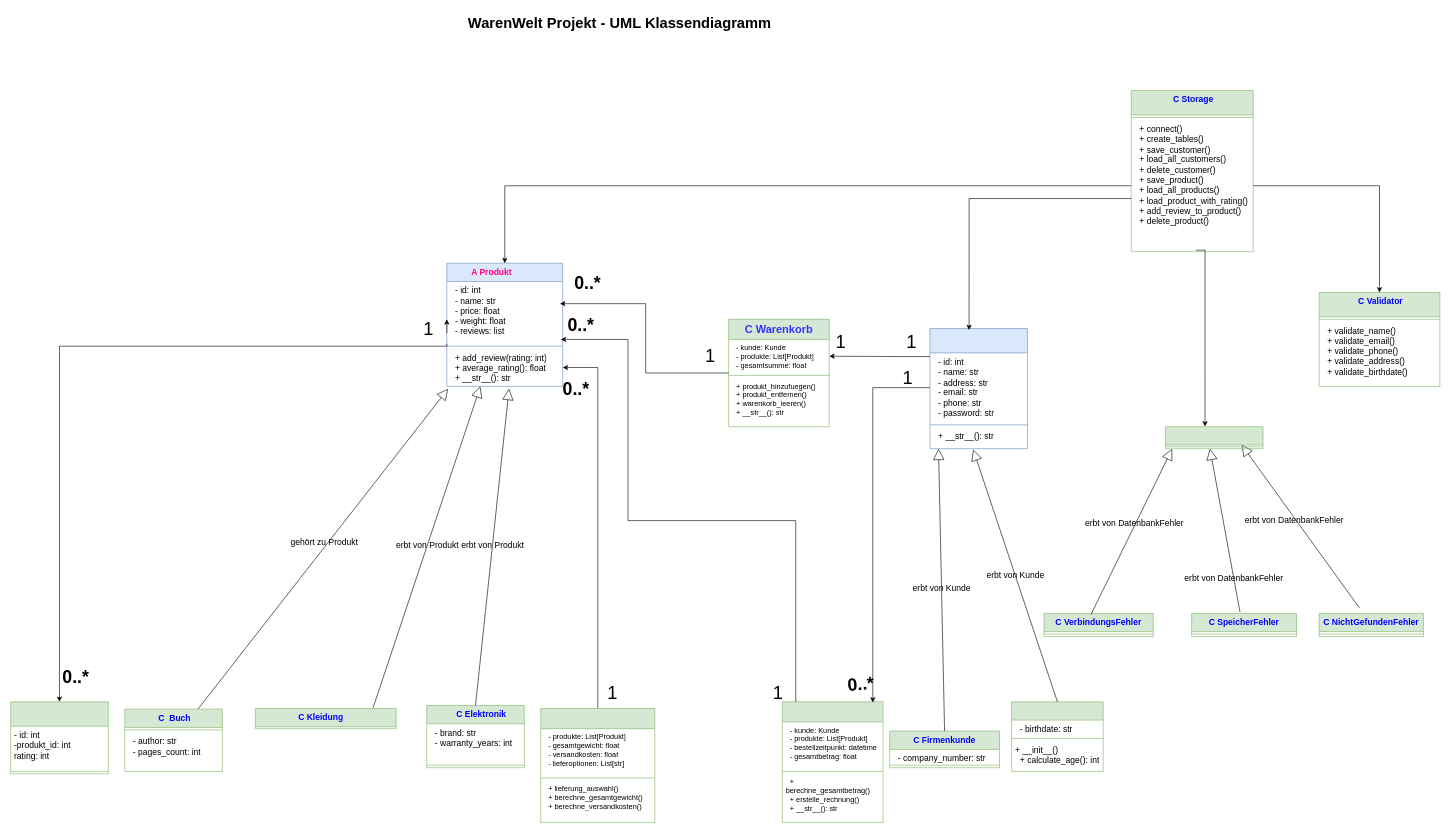
The diagram is 1451 pixels wide and 834 high, and some of its shapes have lost their labels. Each missing label, with the box of its shape:
A Kunde: (929, 328, 1028, 449)
C Bestellung: (782, 701, 883, 823)
C Bewertung: (10, 701, 108, 774)
C DatenbankFehler: (1165, 426, 1263, 449)
C Privatkunde: (1011, 701, 1103, 771)
C VersandService: (540, 708, 655, 823)
